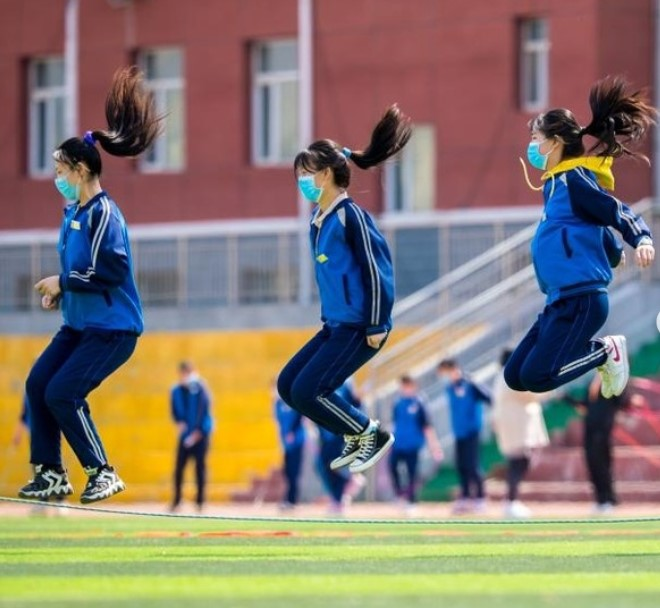face_with_mask: (289, 137, 347, 211), (50, 134, 106, 205), (526, 107, 583, 174)
